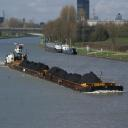tugboat: (5, 43, 31, 71)
